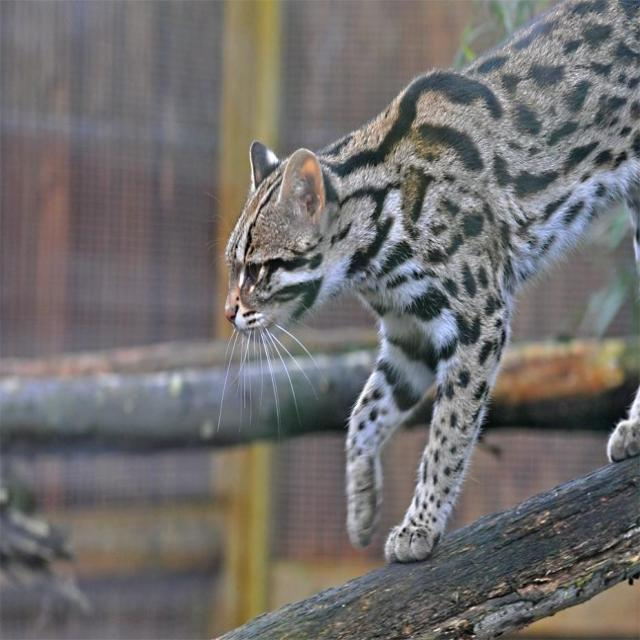leopard: (224, 135, 640, 392)
